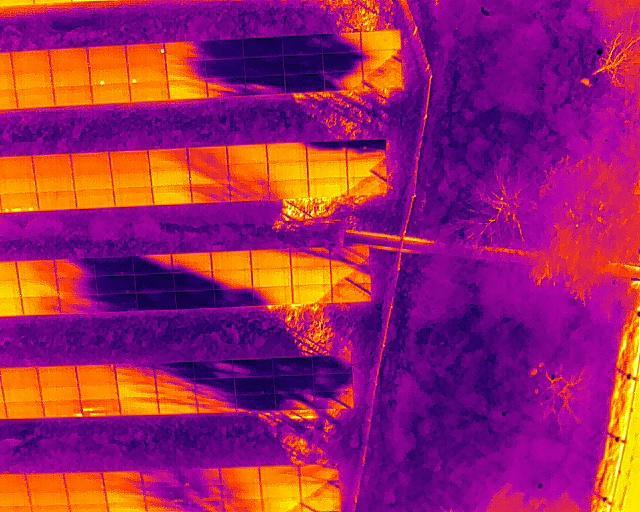Cell: (128, 62, 167, 83), (90, 64, 128, 85), (127, 43, 165, 62), (42, 401, 82, 418)
Cell-Multi: (0, 193, 38, 212), (82, 399, 121, 416)
No-Anomaly: (49, 67, 90, 87), (112, 188, 153, 208), (267, 141, 306, 162), (70, 151, 110, 171), (210, 251, 251, 270), (34, 155, 71, 176), (291, 266, 331, 285), (90, 85, 130, 104), (111, 169, 151, 188), (250, 249, 290, 268), (167, 80, 207, 99), (14, 68, 52, 88), (228, 144, 268, 163), (359, 32, 401, 50), (75, 366, 117, 384), (15, 89, 54, 108), (53, 86, 92, 105), (73, 172, 112, 191), (251, 269, 292, 287), (153, 186, 191, 205), (130, 84, 168, 103), (75, 190, 113, 209), (120, 398, 159, 416), (292, 285, 331, 303), (19, 278, 58, 296), (346, 159, 385, 177), (110, 150, 149, 168), (11, 50, 50, 68), (88, 46, 127, 64), (268, 162, 307, 180), (308, 180, 347, 198), (38, 367, 76, 385), (65, 472, 103, 490), (21, 297, 59, 315), (0, 174, 36, 193), (36, 175, 74, 193), (26, 473, 66, 490), (260, 465, 300, 482), (307, 162, 347, 179), (268, 181, 308, 198), (39, 192, 76, 210), (40, 385, 79, 402), (105, 486, 144, 503), (347, 178, 386, 195), (151, 168, 190, 185), (50, 49, 89, 66), (2, 368, 38, 386), (17, 260, 55, 277), (220, 466, 260, 482), (1, 387, 40, 403), (79, 384, 118, 400), (261, 483, 300, 499), (67, 490, 105, 506), (4, 403, 43, 418), (102, 470, 141, 485), (29, 490, 68, 505), (0, 156, 33, 173)
Shadowing: (329, 245, 369, 267), (228, 164, 268, 185), (149, 148, 188, 169), (166, 59, 205, 80), (306, 142, 346, 162), (189, 165, 229, 185), (362, 69, 402, 89), (313, 354, 352, 374), (173, 271, 212, 291), (204, 39, 245, 58), (282, 35, 323, 54), (272, 356, 313, 375), (55, 258, 96, 277), (322, 53, 363, 72), (187, 147, 228, 166), (212, 269, 252, 288), (330, 284, 370, 303), (243, 37, 283, 56), (194, 378, 234, 397), (273, 375, 313, 394), (346, 140, 386, 159), (289, 246, 329, 265), (133, 255, 172, 274), (213, 288, 252, 307), (244, 56, 283, 75), (230, 182, 269, 201), (232, 359, 273, 377), (153, 362, 194, 380), (360, 50, 401, 68), (282, 55, 323, 73), (321, 34, 361, 52), (234, 377, 274, 395), (313, 375, 353, 393), (253, 287, 293, 305), (299, 465, 339, 483), (284, 73, 324, 91), (204, 59, 244, 77), (244, 76, 284, 94), (194, 360, 233, 378), (165, 41, 204, 59), (330, 267, 369, 285), (134, 274, 173, 292), (95, 257, 134, 275), (171, 253, 210, 271), (96, 276, 135, 294), (323, 71, 362, 89), (192, 184, 231, 202), (56, 278, 96, 295), (116, 382, 156, 399), (115, 365, 154, 382), (156, 382, 195, 399), (175, 291, 214, 308), (136, 291, 175, 308), (220, 483, 261, 499), (179, 468, 220, 484), (207, 78, 245, 95), (313, 393, 353, 409), (196, 397, 236, 413), (157, 399, 197, 415), (235, 395, 275, 411), (180, 484, 220, 500), (300, 483, 340, 499), (274, 394, 313, 410), (96, 294, 136, 309), (58, 295, 97, 310), (141, 470, 180, 485), (143, 486, 181, 500)
